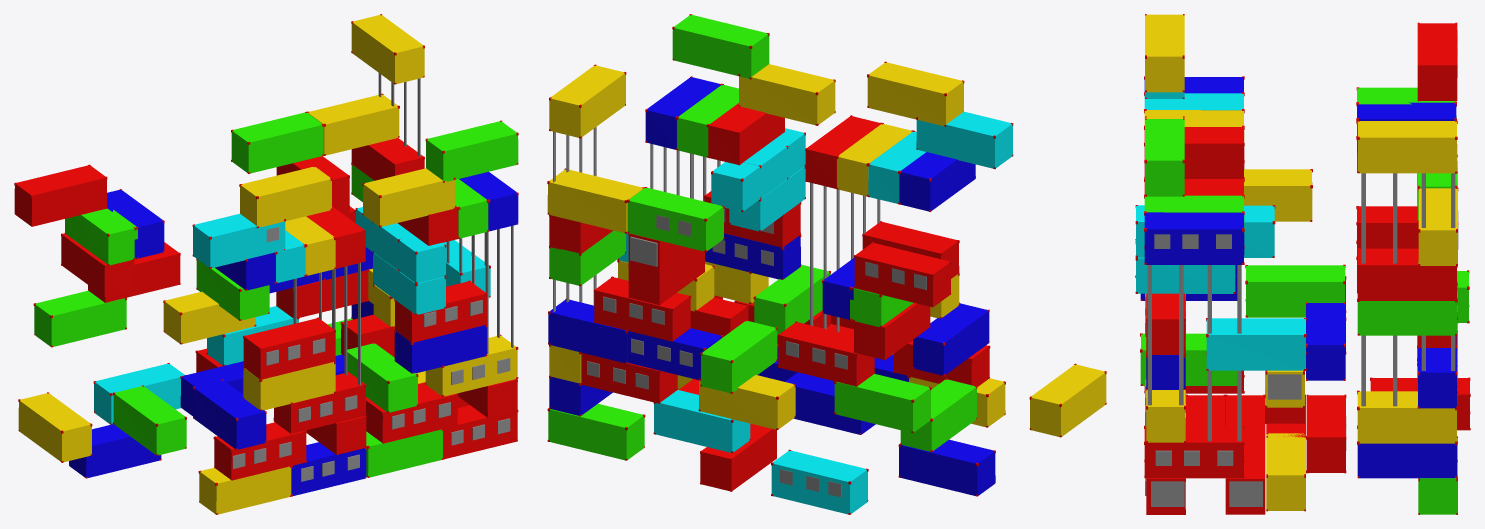
Rendered from ParentPart12FBX.FBX.
3 views of the same model, side by side, from view 1: azimuth 30°, elevation 25°; view 2: azimuth 150°, elevation 25°; view 3: azimuth 270°, elevation 25° (orthographic). The views are drawn at different scales.
Parts seen in each view (by area): view 1: ParentPart12; view 2: ParentPart12; view 3: ParentPart12.
Boxes of the visible parts, x1,y1,x2,y2 form: ParentPart12: (14,14,518,514); ParentPart12: (547,14,1106,514); ParentPart12: (1135,14,1470,514).
Size of the model in its own units: 11.7 by 6.91 by 8.59.
